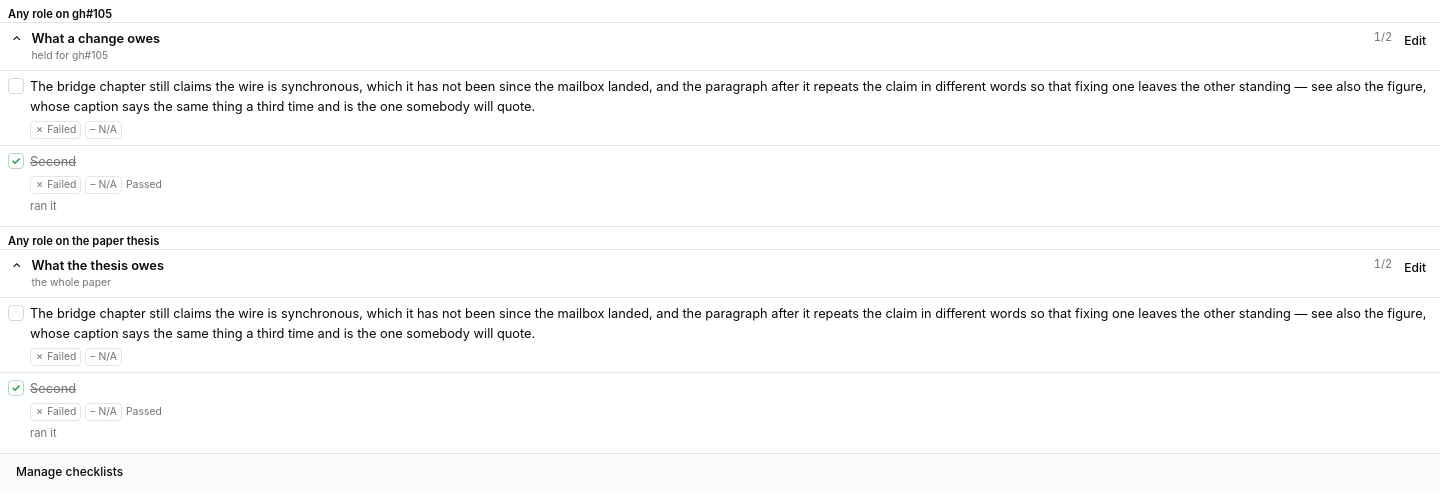
Test case: the reading page: what is in front of the reader › several lists are stacked in the order given, each foldable, and folding hides only its items
expect the number of list items is 4: met, box x1=0 y1=71 x2=1439 y2=145; x1=0 y1=145 x2=1439 y2=220; x1=0 y1=298 x2=1439 y2=372; x1=0 y1=372 x2=1439 y2=447
Click the button "⌃" next to "What a change owes".
click(17, 41)  # box x1=8 y1=29 x2=26 y2=53
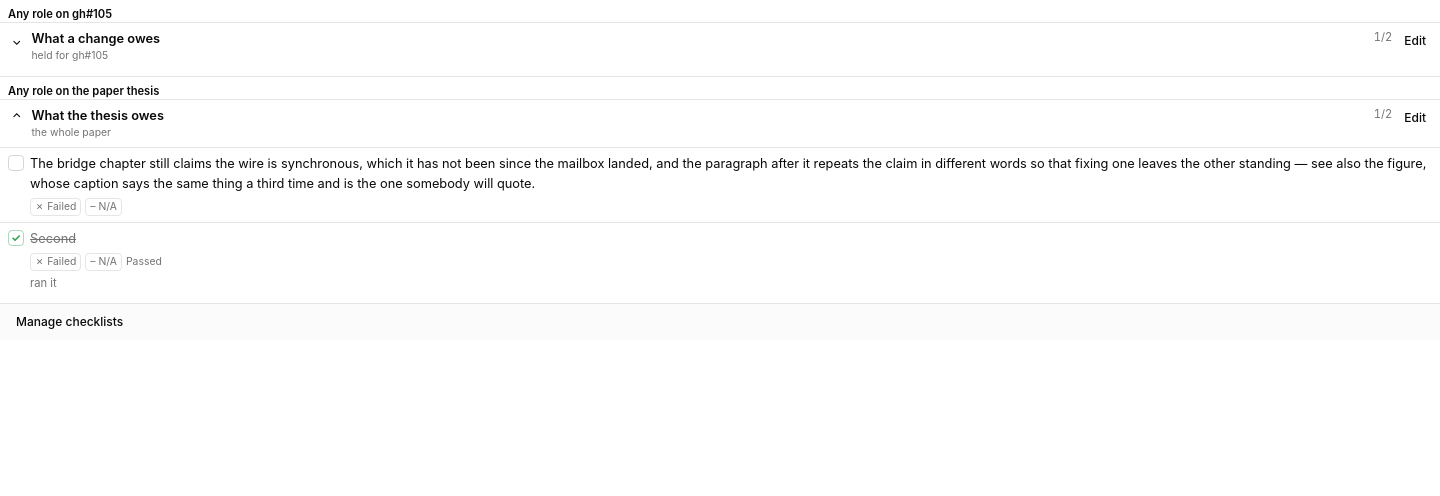
expect the heading "What a change owes" is shown: met, box x1=32 y1=31 x2=160 y2=46
expect the number of list items is 2: met, box x1=0 y1=148 x2=1439 y2=222; x1=0 y1=222 x2=1439 y2=297
